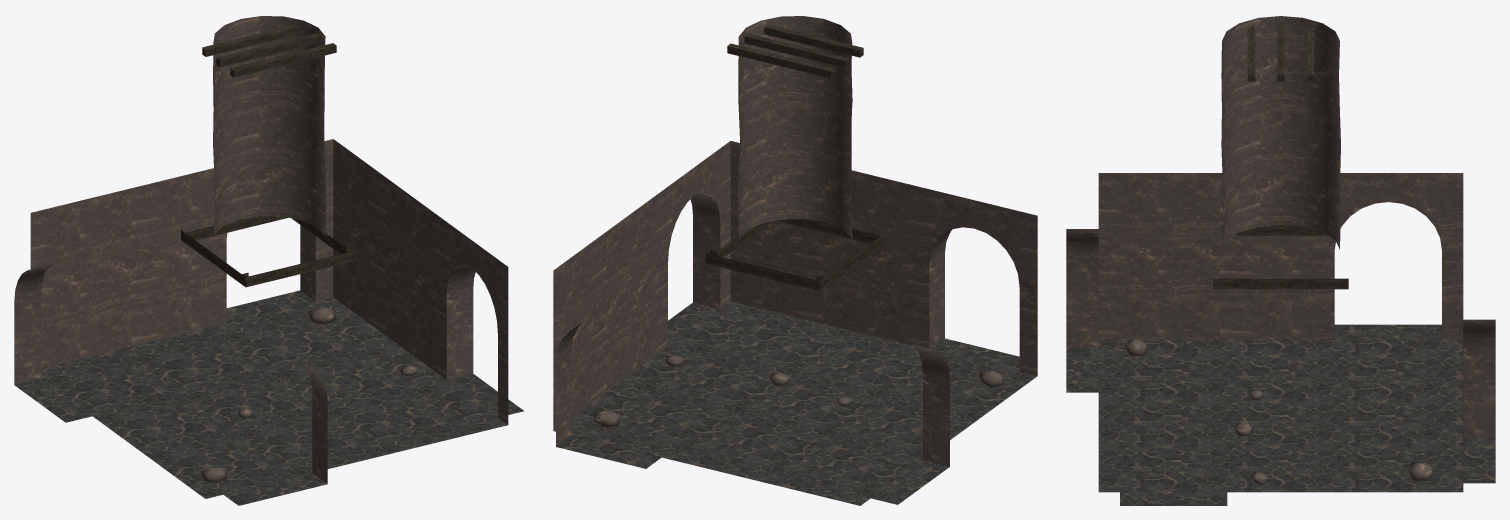
Rendered from extraction-shaft.607e3b30.gltf.
3 views of the same model, side by side, from view 1: azimuth 30°, elevation 25°; view 2: azimuth 150°, elevation 25°; view 3: azimuth 270°, elevation 25° (orthographic). The views are drawn at different scales.
Parts seen in each view (by area): view 1: extraction-shaft-mesh, extraction-shaft-way-out; view 2: extraction-shaft-mesh, extraction-shaft-way-out; view 3: extraction-shaft-mesh, extraction-shaft-way-out.
Boxes of the visible parts, x1,y1,x2,y2 form: extraction-shaft-mesh: [14, 16, 524, 505]; extraction-shaft-way-out: [181, 25, 357, 287]; extraction-shaft-mesh: [553, 16, 1037, 505]; extraction-shaft-way-out: [705, 25, 885, 291]; extraction-shaft-mesh: [1066, 16, 1495, 505]; extraction-shaft-way-out: [1213, 23, 1348, 289].
Size of the model in its own units: 8 by 7.79 by 8.
Materials: 4 (3 with a texture image).
